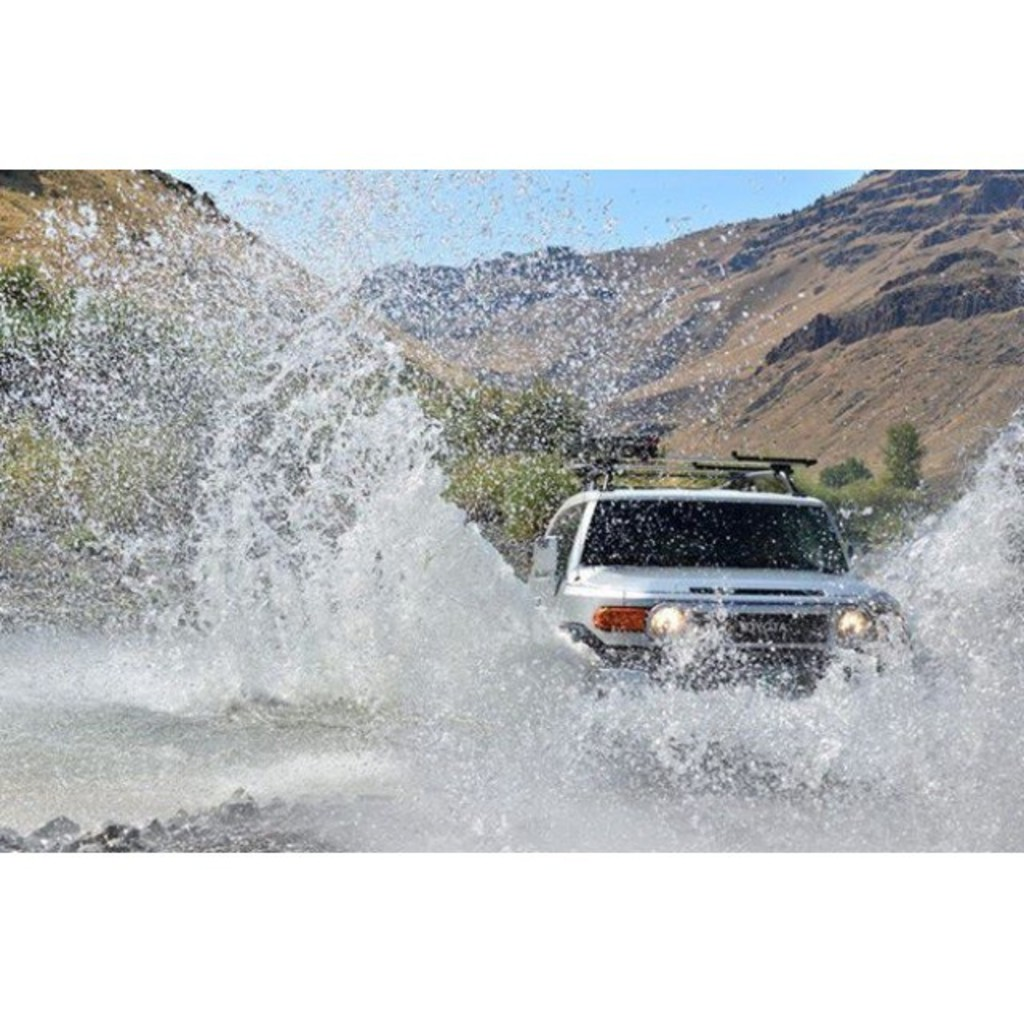Car: (515, 457, 889, 723)
